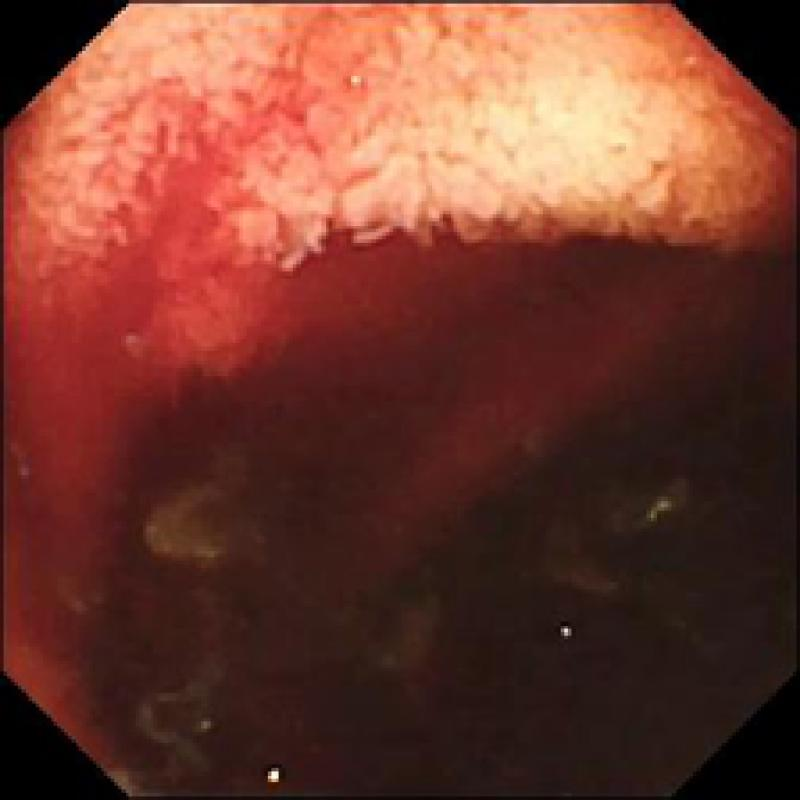bleeding: (0, 107, 761, 757)
